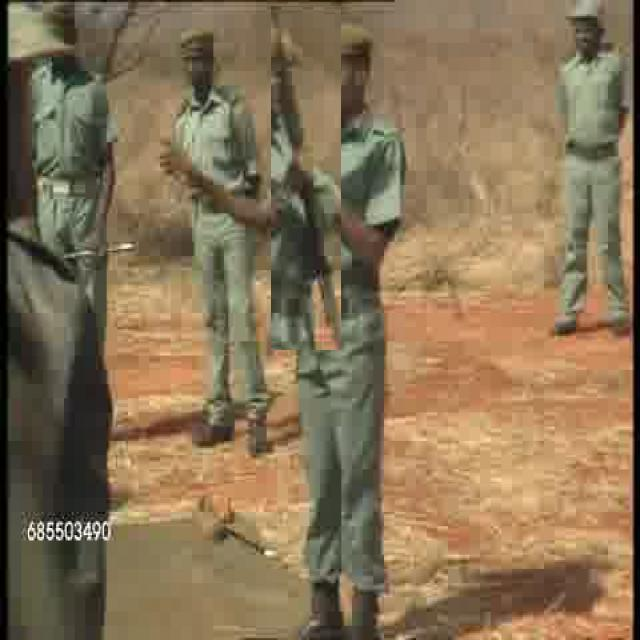poacher: (269, 7, 439, 599), (156, 18, 258, 462), (534, 1, 640, 350), (42, 2, 126, 357)
weapon: (271, 6, 341, 350)
